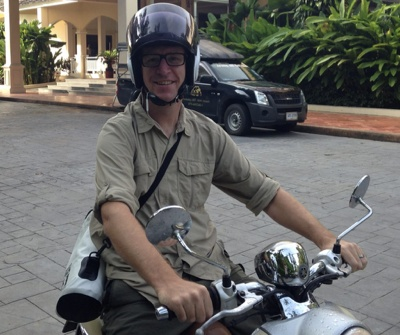helmet: (121, 3, 203, 109)
